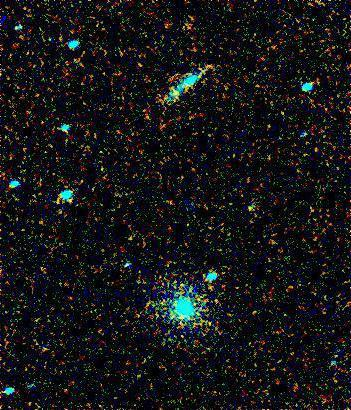star: (236, 193, 266, 223)
